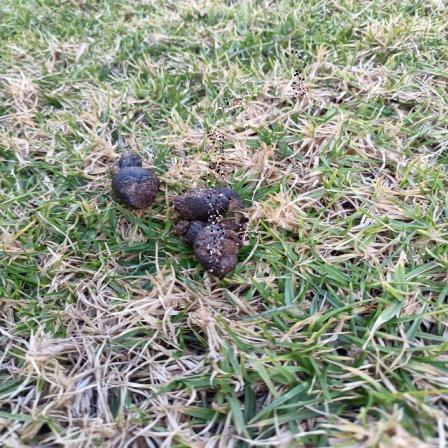dog-poop: (114, 141, 254, 275)
